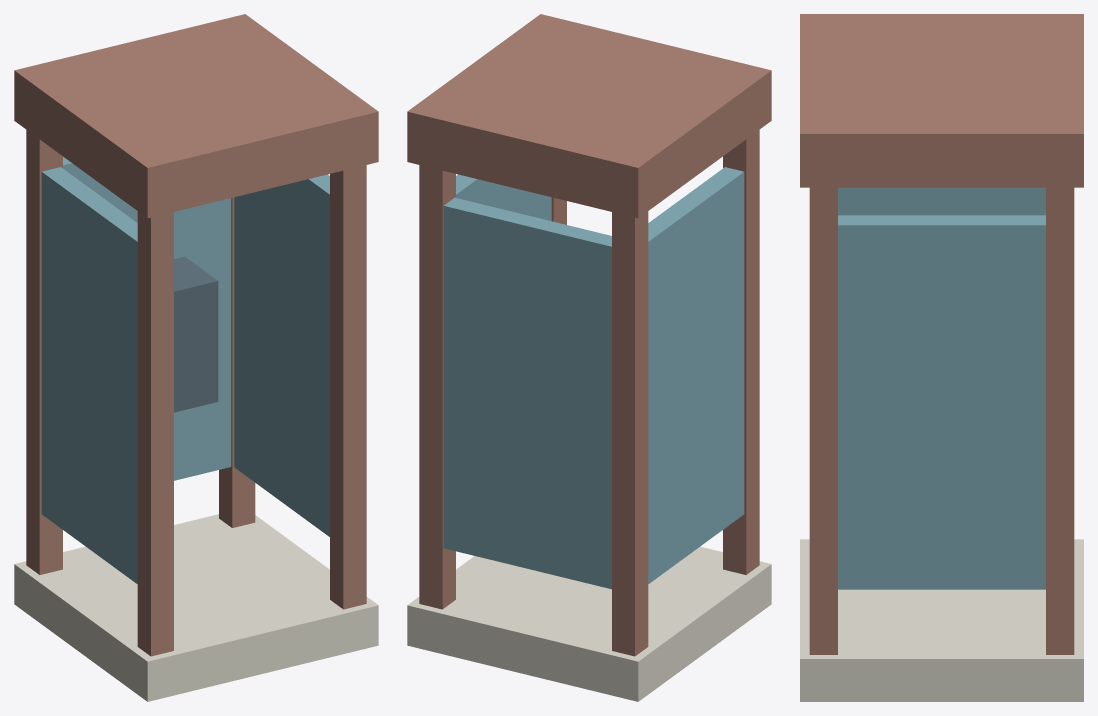
The model's file is voxel-city-districts-telephone-kiosk-35480726__24843.glb.
3 views of the same model, side by side, from view 1: azimuth 30°, elevation 25°; view 2: azimuth 150°, elevation 25°; view 3: azimuth 270°, elevation 25° (orthographic). The views are drawn at different scales.
Visible parts, largest first — view 1: telephone-kiosk-roof, telephone-kiosk-glass, telephone-kiosk-concrete, telephone-kiosk-dark; view 2: telephone-kiosk-glass, telephone-kiosk-roof, telephone-kiosk-concrete; view 3: telephone-kiosk-glass, telephone-kiosk-roof, telephone-kiosk-concrete.
Part boxes in pixels (x1=…): telephone-kiosk-roof: x1=14, y1=14, x2=378, y2=656; telephone-kiosk-glass: x1=41, y1=156, x2=329, y2=583; telephone-kiosk-concrete: x1=14, y1=514, x2=378, y2=701; telephone-kiosk-dark: x1=174, y1=256, x2=218, y2=412; telephone-kiosk-glass: x1=443, y1=167, x2=744, y2=589; telephone-kiosk-roof: x1=407, y1=14, x2=771, y2=656; telephone-kiosk-concrete: x1=407, y1=546, x2=771, y2=701; telephone-kiosk-glass: x1=838, y1=187, x2=1045, y2=589; telephone-kiosk-roof: x1=800, y1=14, x2=1083, y2=654; telephone-kiosk-concrete: x1=800, y1=539, x2=1083, y2=701.
Bounding box in the file's own units: 1.2 × 2.65 × 1.2.
